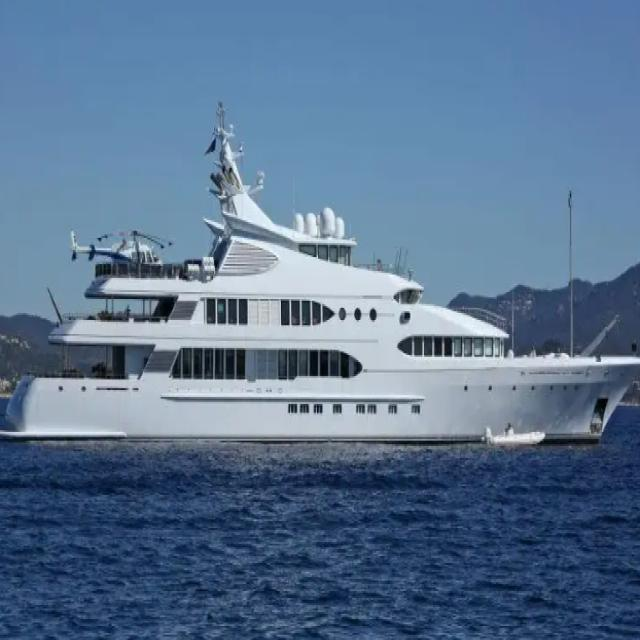houseboat: (0, 126, 630, 456)
